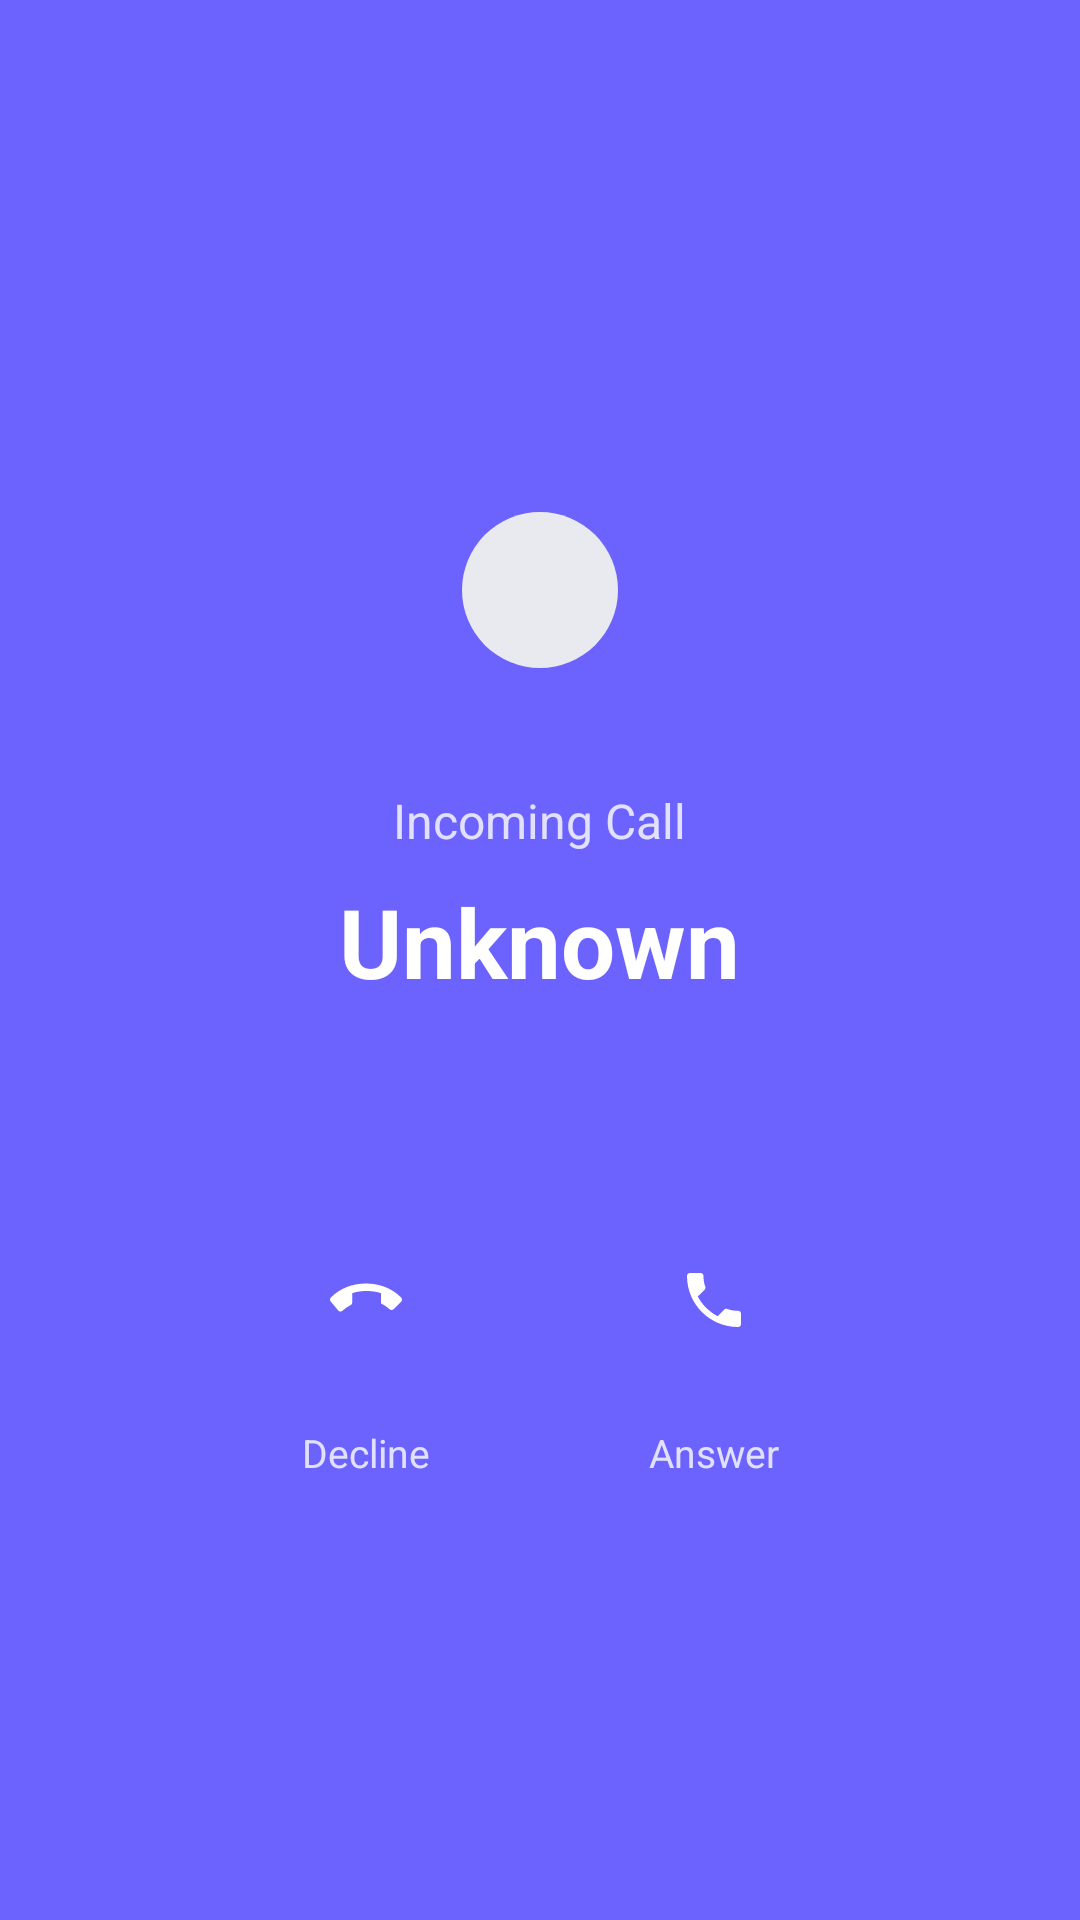

Icons on this 1080*1920 Android screen, each with its box as [x1,y1,x2,y2]:
call: [687,1273,741,1327]
call end: [330,1283,402,1312]
